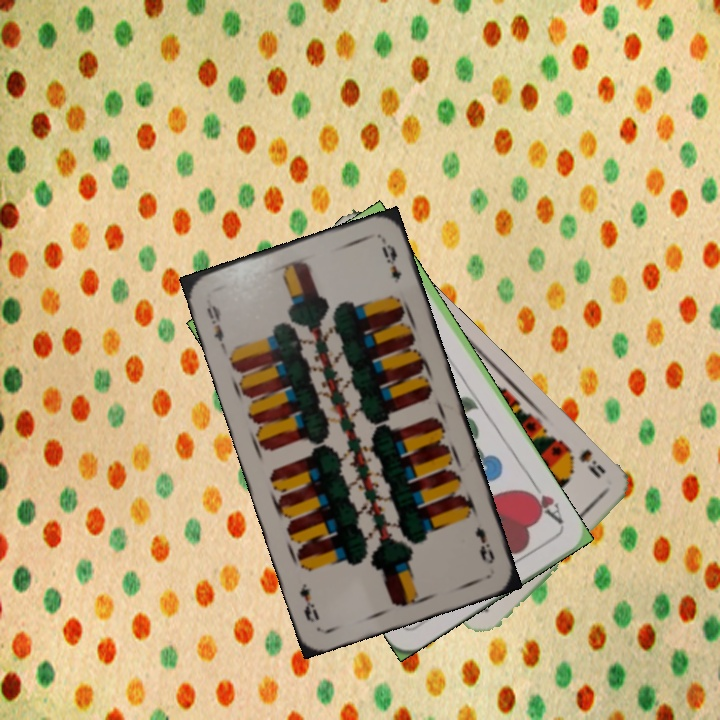E9: (202, 295, 229, 352), (470, 522, 497, 567)
HA: (522, 477, 566, 527)
S9: (559, 440, 608, 481)
